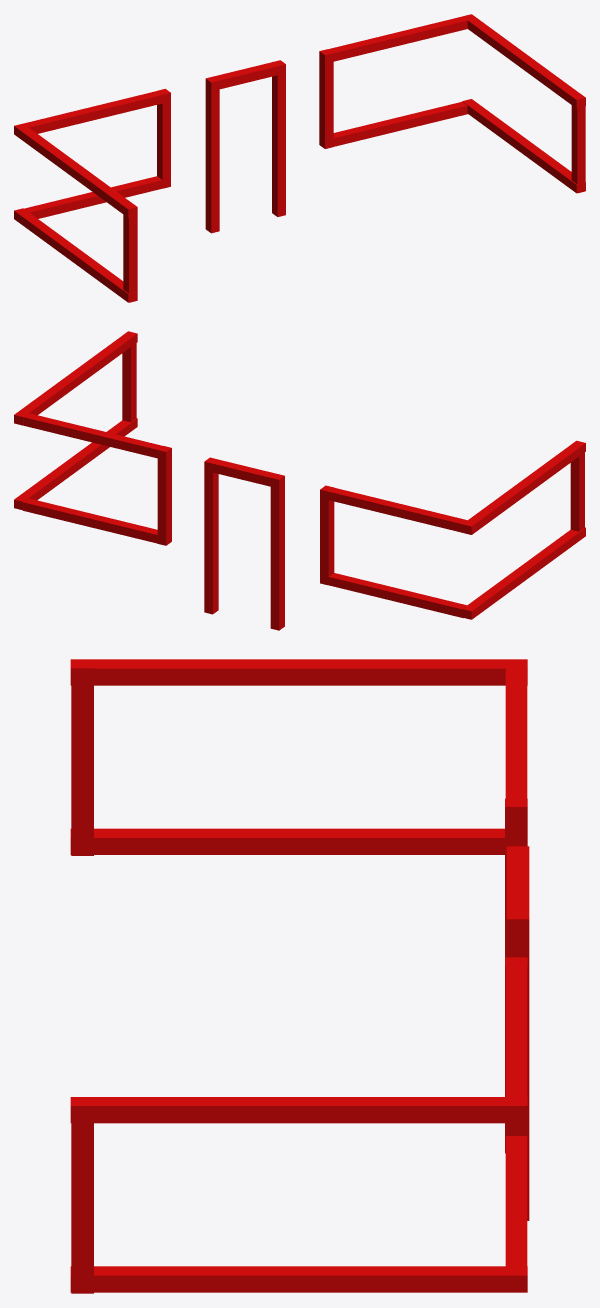
File: shop_windowsAndDoor.fbx
3 renders of one model, top to bottom at view 1: azimuth 30°, elevation 25°; view 2: azimuth 150°, elevation 25°; view 3: azimuth 270°, elevation 25°, orthographic. The views are drawn at different scales.
Parts seen in each view (by area): view 1: pCube12 (×2), pCube13 (×2), pCube14 (×2), pCube5, pCube4, pCube9, pCube8, pCube6, pCube7, pCube11, pCube10, pCube3; view 2: pCube12 (×2), pCube13 (×2), pCube14 (×2), pCube5, pCube4, pCube9, pCube6, pCube7, pCube8, pCube11, pCube10, pCube3; view 3: pCube12 (×2), pCube13 (×2), pCube14 (×2), pCube9, pCube6, pCube8, pCube4, pCube3, pCube10, pCube11.
Boxes of the visible parts, bbox=[...] form: pCube12 (×2): bbox=[14, 14, 585, 217]; pCube13 (×2): bbox=[14, 99, 585, 302]; pCube14 (×2): bbox=[123, 93, 585, 302]; pCube5: bbox=[205, 76, 219, 233]; pCube4: bbox=[272, 60, 285, 216]; pCube9: bbox=[328, 16, 467, 61]; pCube8: bbox=[333, 101, 467, 146]; pCube6: bbox=[23, 91, 162, 133]; pCube7: bbox=[24, 176, 162, 218]; pCube11: bbox=[319, 49, 333, 148]; pCube10: bbox=[157, 88, 170, 188]; pCube3: bbox=[214, 62, 277, 90]; pCube12 (×2): bbox=[14, 331, 585, 534]; pCube13 (×2): bbox=[14, 418, 585, 619]; pCube14 (×2): bbox=[122, 331, 584, 531]; pCube5: bbox=[270, 473, 284, 630]; pCube4: bbox=[204, 457, 218, 614]; pCube9: bbox=[23, 413, 162, 458]; pCube6: bbox=[328, 487, 468, 532]; pCube7: bbox=[328, 573, 466, 618]; pCube8: bbox=[23, 498, 157, 543]; pCube11: bbox=[157, 446, 171, 545]; pCube10: bbox=[320, 485, 334, 585]; pCube3: bbox=[211, 459, 275, 487]; pCube12 (×2): bbox=[70, 659, 527, 1123]; pCube13 (×2): bbox=[70, 828, 527, 1292]; pCube14 (×2): bbox=[71, 660, 93, 1293]; pCube9: bbox=[505, 965, 527, 1097]; pCube6: bbox=[505, 667, 527, 798]; pCube8: bbox=[505, 1136, 527, 1266]; pCube4: bbox=[506, 911, 529, 1220]; pCube3: bbox=[506, 854, 529, 910]; pCube10: bbox=[505, 798, 527, 957]; pCube11: bbox=[505, 957, 527, 1153].
Size of the model in its own units: 266 by 83.89 by 116.
